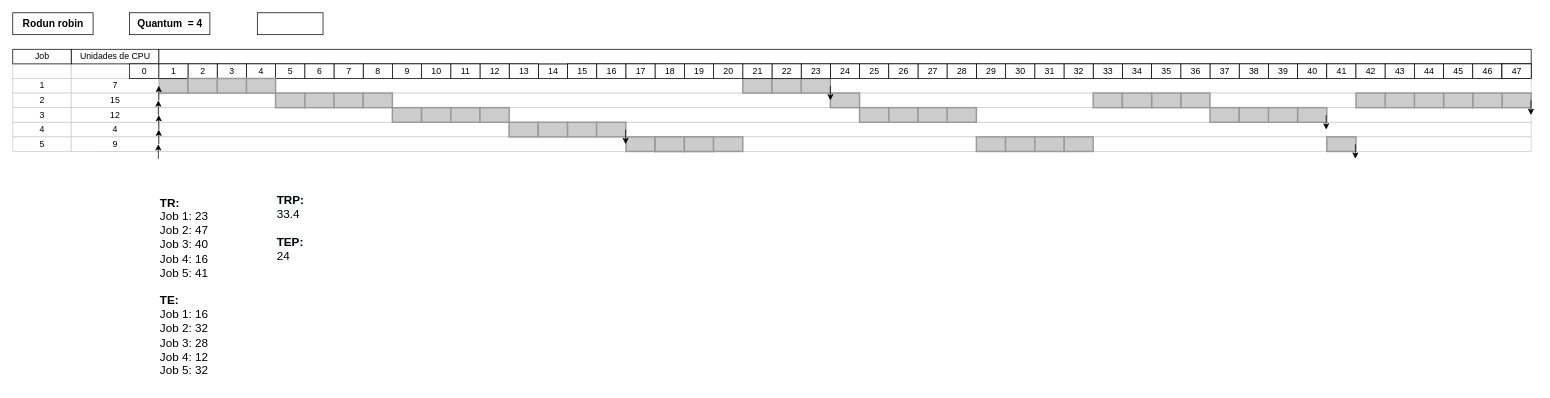
This 1550x398 diagram has some shape labels left out. Each missing label, with the box of its shape:
Instante de tiempo: (158, 49, 1531, 64)
Timer Fijo: (257, 12, 323, 35)
